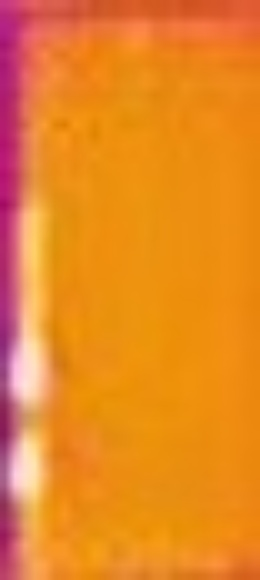Diode: (1, 193, 63, 515)
